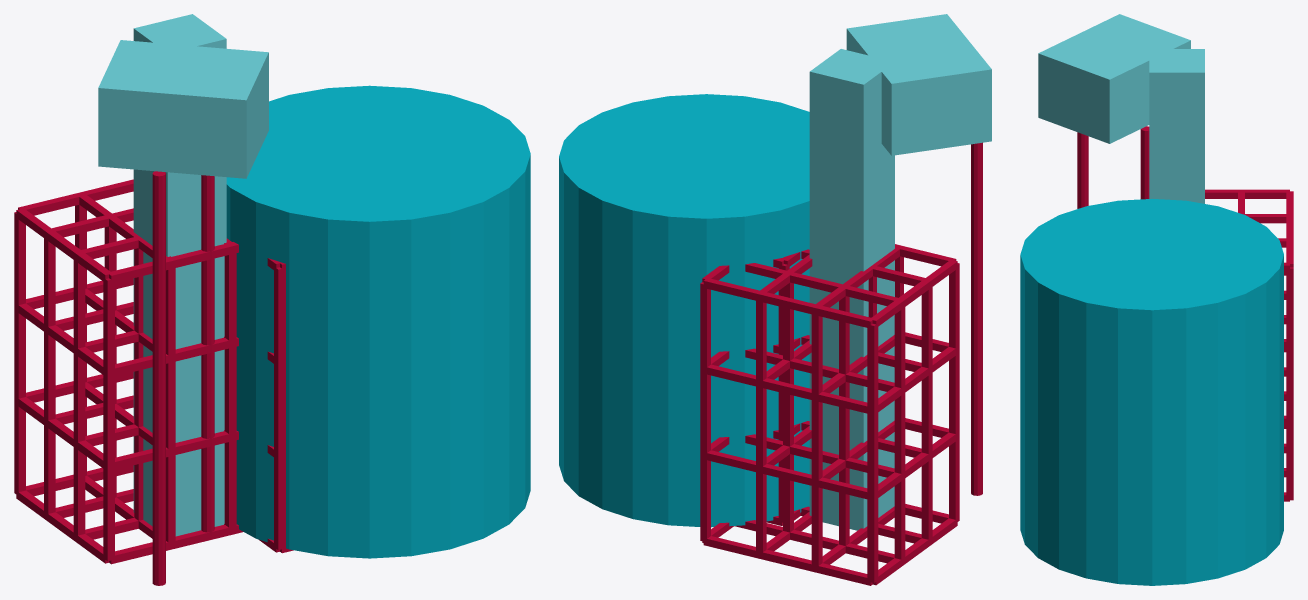
File: folie_tag_002.glb
The picture shows the model from 3 angles, left to right: view 1: azimuth 30°, elevation 25°; view 2: azimuth 150°, elevation 25°; view 3: azimuth 270°, elevation 25°; orthographic projection. The views are drawn at different scales.
Visible parts, largest first — view 1: folie_tag_002_00_drum, folie_tag_002_01_cage, folie_tag_002_03_block, folie_tag_002_core, folie_tag_002_line, folie_tag_002_02_cage; view 2: folie_tag_002_00_drum, folie_tag_002_01_cage, folie_tag_002_core, folie_tag_002_03_block, folie_tag_002_line, folie_tag_002_02_cage; view 3: folie_tag_002_00_drum, folie_tag_002_03_block, folie_tag_002_core, folie_tag_002_01_cage, folie_tag_002_line.
Boxes of the visible parts, x1=… form: folie_tag_002_00_drum: x1=226, y1=85, x2=530, y2=558; folie_tag_002_01_cage: x1=14, y1=179, x2=243, y2=564; folie_tag_002_03_block: x1=98, y1=40, x2=268, y2=178; folie_tag_002_core: x1=133, y1=14, x2=226, y2=536; folie_tag_002_line: x1=152, y1=171, x2=214, y2=585; folie_tag_002_02_cage: x1=258, y1=258, x2=293, y2=553; folie_tag_002_00_drum: x1=559, y1=94, x2=809, y2=527; folie_tag_002_01_cage: x1=700, y1=244, x2=959, y2=585; folie_tag_002_core: x1=809, y1=49, x2=894, y2=530; folie_tag_002_03_block: x1=846, y1=14, x2=991, y2=155; folie_tag_002_line: x1=971, y1=142, x2=982, y2=495; folie_tag_002_02_cage: x1=767, y1=252, x2=800, y2=525; folie_tag_002_00_drum: x1=1020, y1=198, x2=1283, y2=585; folie_tag_002_03_block: x1=1038, y1=14, x2=1190, y2=143; folie_tag_002_core: x1=1149, y1=49, x2=1204, y2=203; folie_tag_002_01_cage: x1=1205, y1=189, x2=1293, y2=501; folie_tag_002_line: x1=1077, y1=126, x2=1149, y2=208.
Size of the model in its own units: 8.03 by 8.77 by 5.39.
